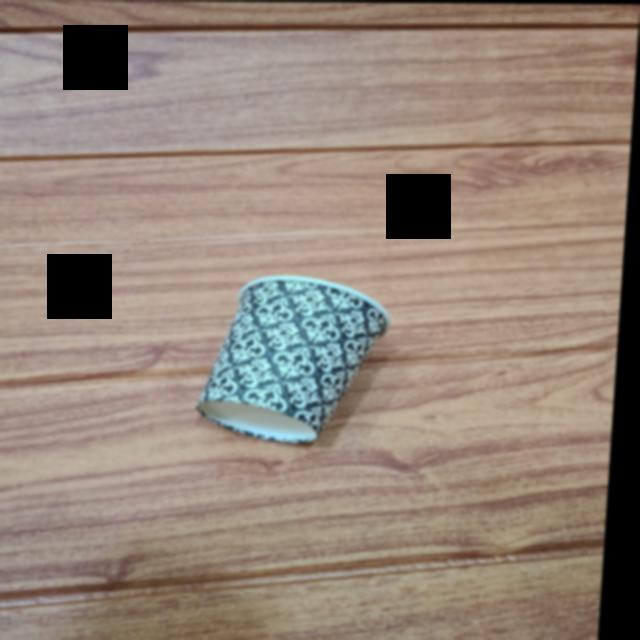cups: (187, 275, 410, 448)
